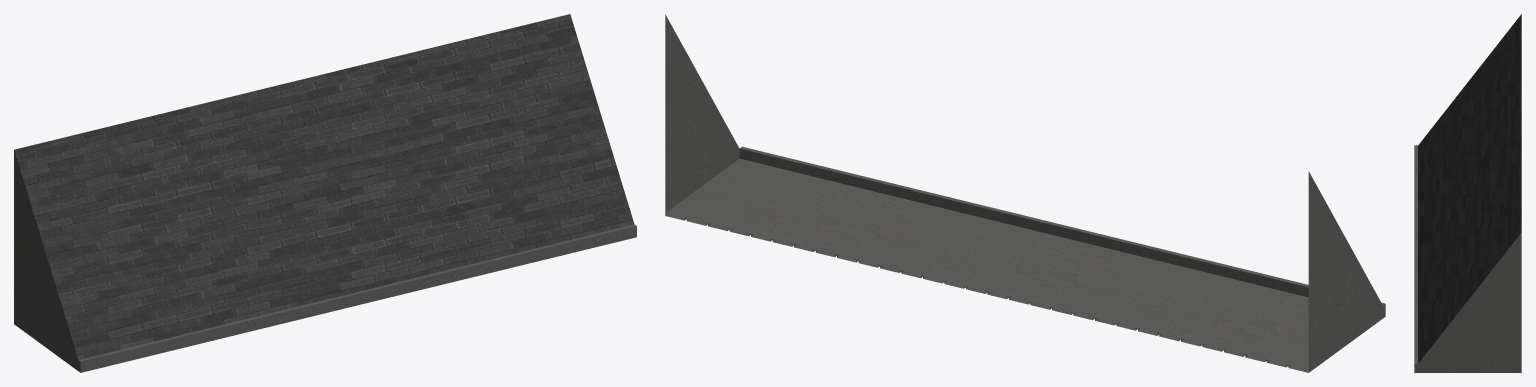
The model's file is Sm_Roof01.fbx.
3 views of the same model, side by side, from view 1: azimuth 30°, elevation 25°; view 2: azimuth 150°, elevation 25°; view 3: azimuth 270°, elevation 25° (orthographic). The views are drawn at different scales.
Visible parts, largest first — view 1: Sm_Roof01; view 2: Sm_Roof01; view 3: Sm_Roof01.
Boxes of the visible parts, box(x1,y1,x2,y2) form: Sm_Roof01: box(14, 14, 636, 372); Sm_Roof01: box(665, 14, 1385, 372); Sm_Roof01: box(1414, 14, 1521, 372).
Size of what is drawn, in the model's own units: 500 by 104 by 150.
2 materials, 2 textured.
